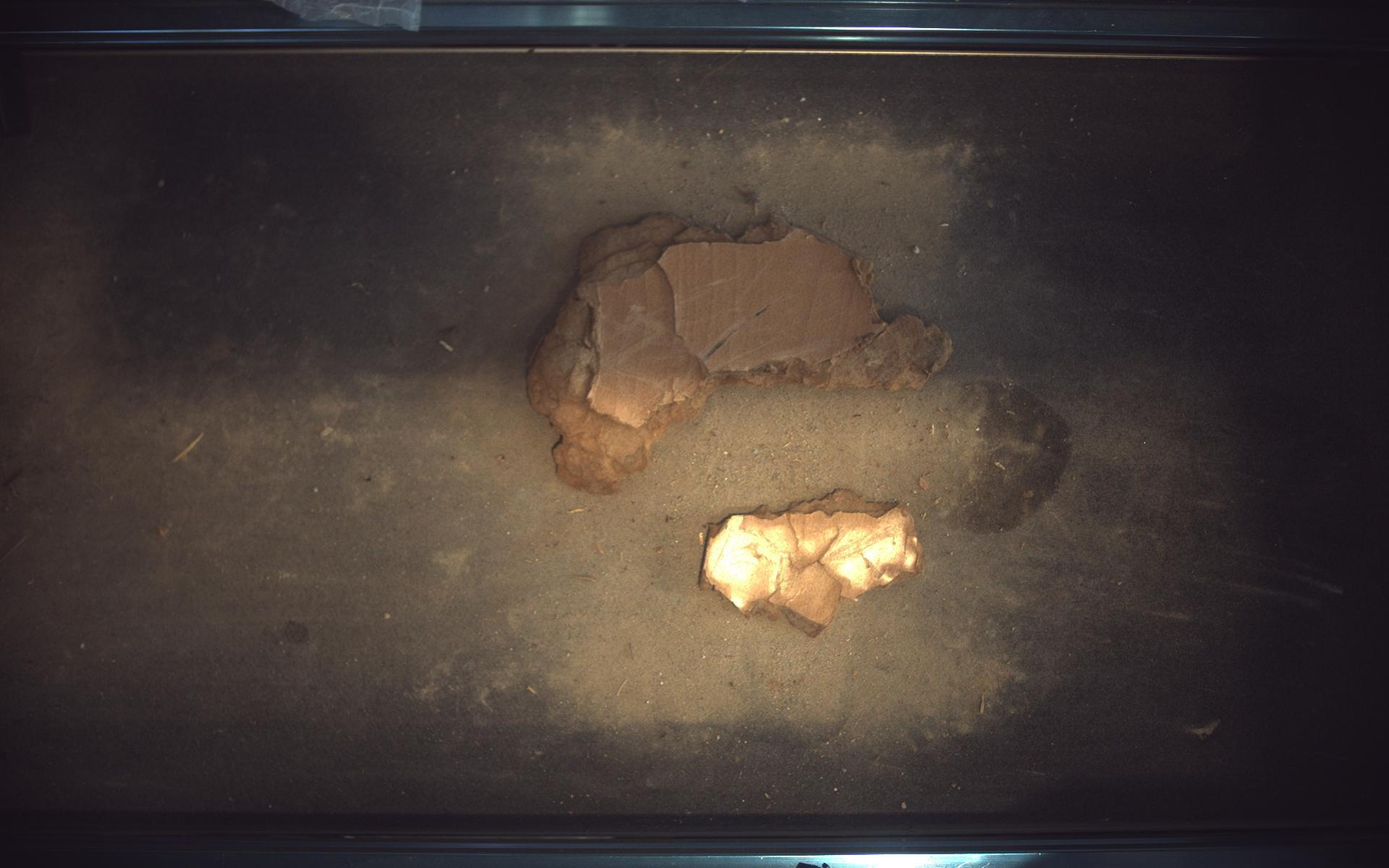wood: (528, 214, 954, 494), (701, 490, 924, 637)
